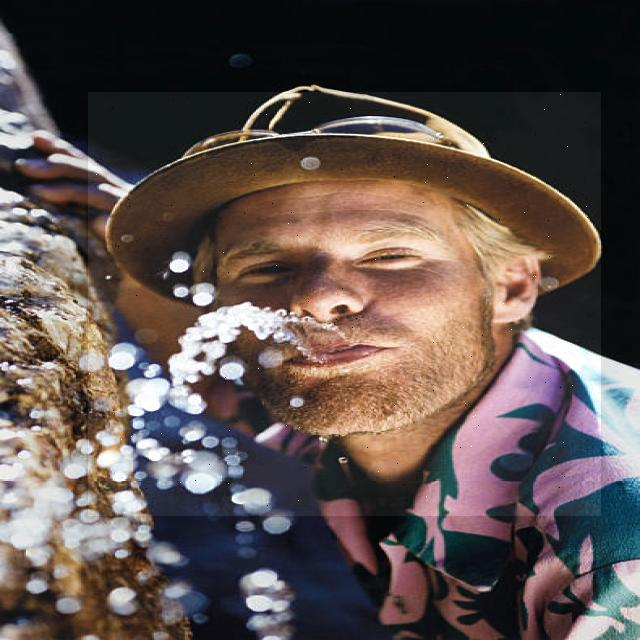Spitting: (88, 92, 601, 516)
